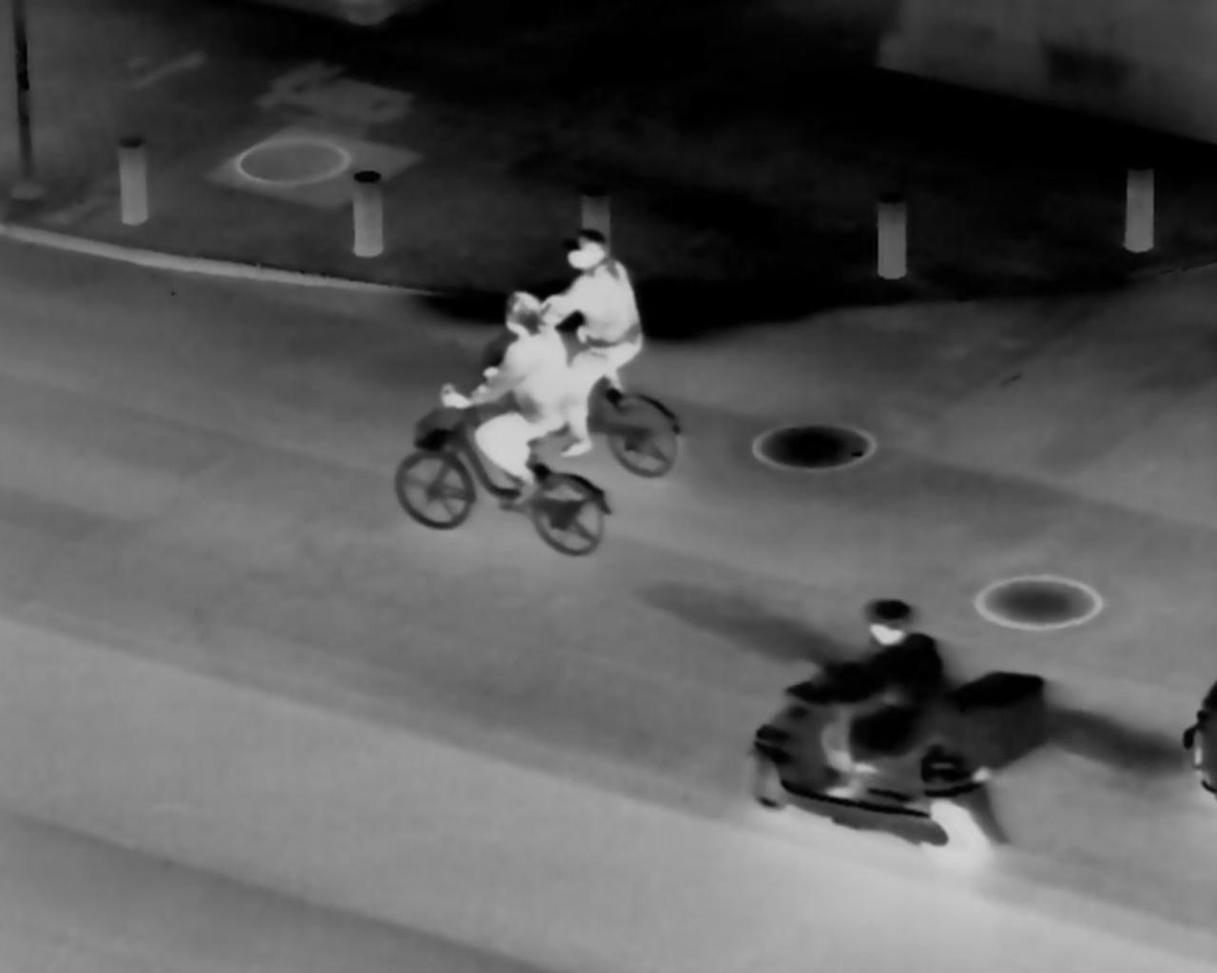person: (431, 286, 576, 524), (799, 578, 944, 813), (549, 222, 647, 459)
